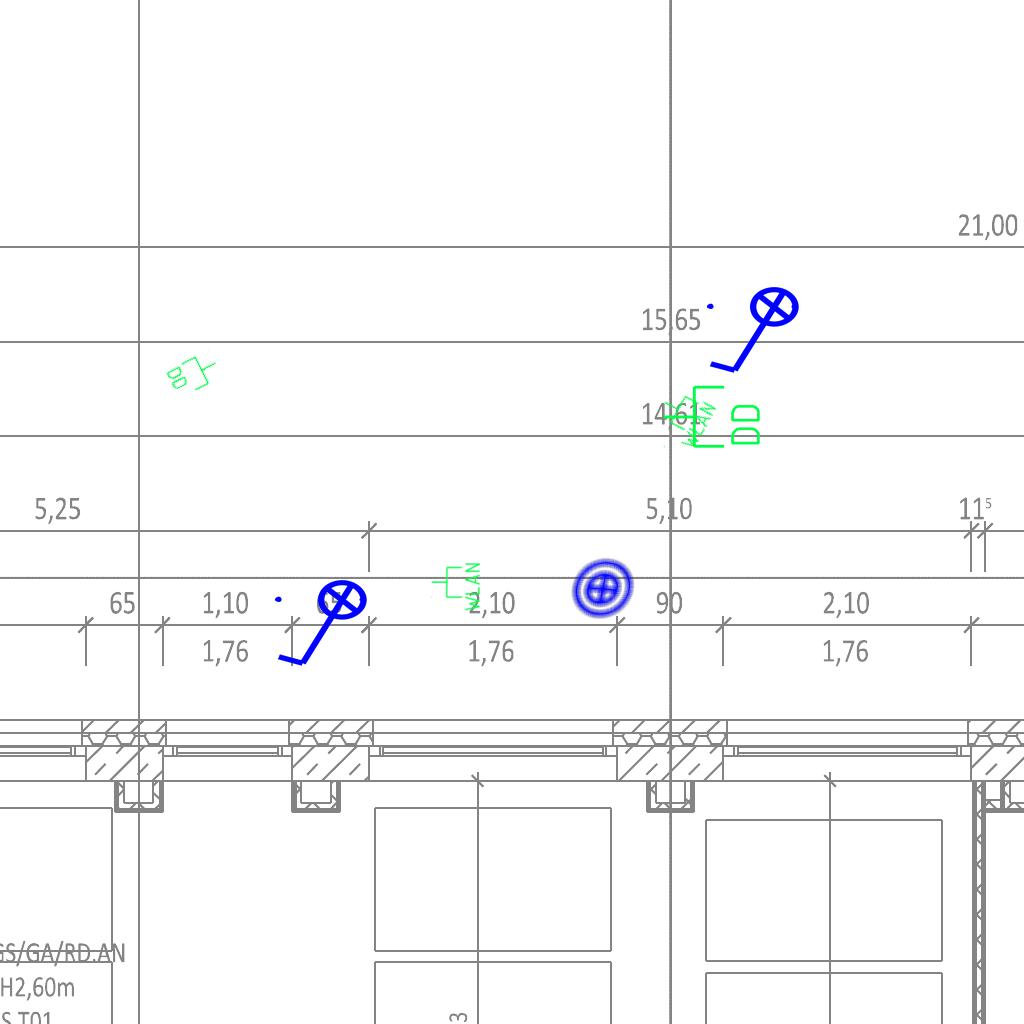Ausschalter_beleuchtet: (701, 285, 813, 381), (269, 578, 381, 674)
Datenanschluss_zweifach: (661, 383, 764, 452), (163, 347, 224, 401)
Taster_beleuchtet: (556, 542, 650, 636)
WLAN: (648, 382, 720, 454), (430, 561, 482, 613)
